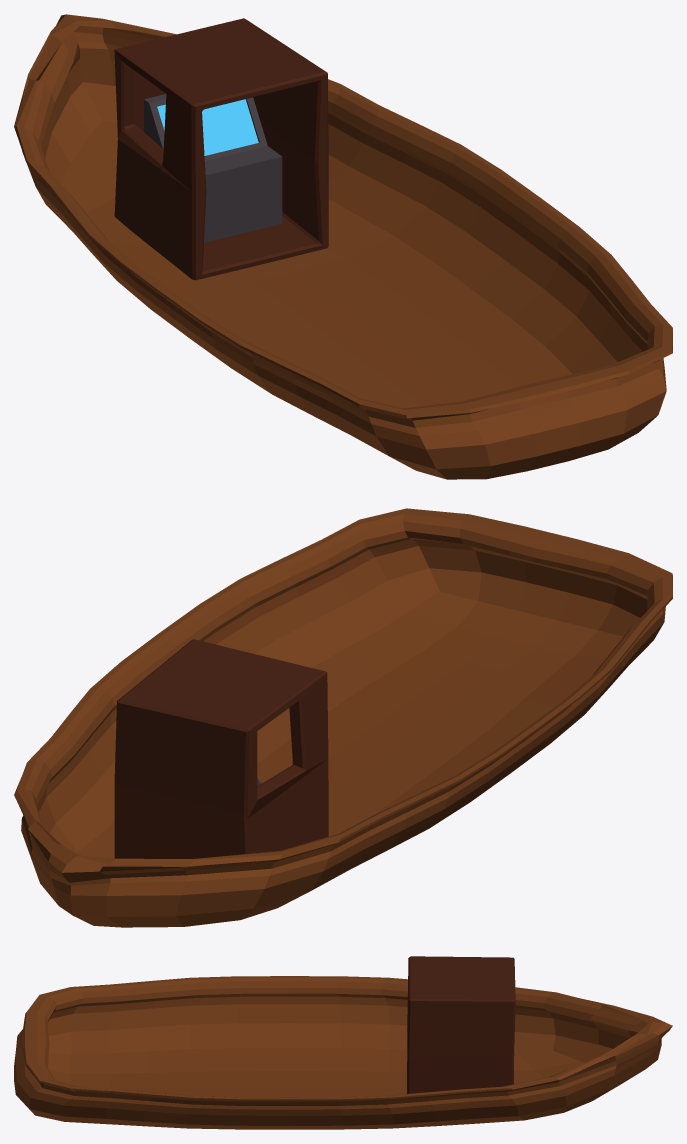
The model's file is boat.glb.
The picture shows the model from 3 angles, top to bottom: view 1: azimuth 30°, elevation 25°; view 2: azimuth 150°, elevation 25°; view 3: azimuth 270°, elevation 25°; orthographic projection. The views are drawn at different scales.
Parts seen in each view (by area): view 1: Plane, Cube, Cube.001; view 2: Plane, Cube; view 3: Plane, Cube.
Boxes of the visible parts, <box> form: Plane: <box>14,14,672,479</box>; Cube: <box>114,18,328,280</box>; Cube.001: <box>144,94,282,242</box>; Plane: <box>14,508,672,927</box>; Cube: <box>114,639,328,858</box>; Plane: <box>14,976,672,1129</box>; Cube: <box>407,956,515,1093</box>.
Size of the model in its own units: 7.74 by 3.47 by 17.48.
